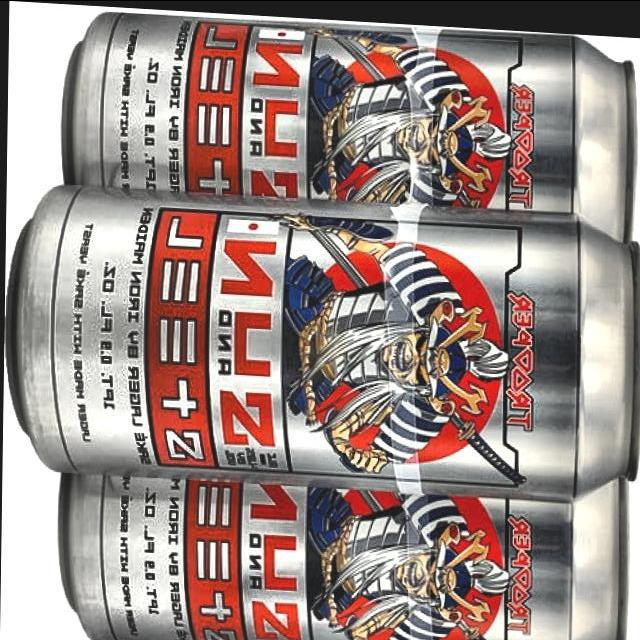Aluminum Can: (2, 174, 640, 499), (55, 2, 640, 240), (52, 424, 633, 640)
